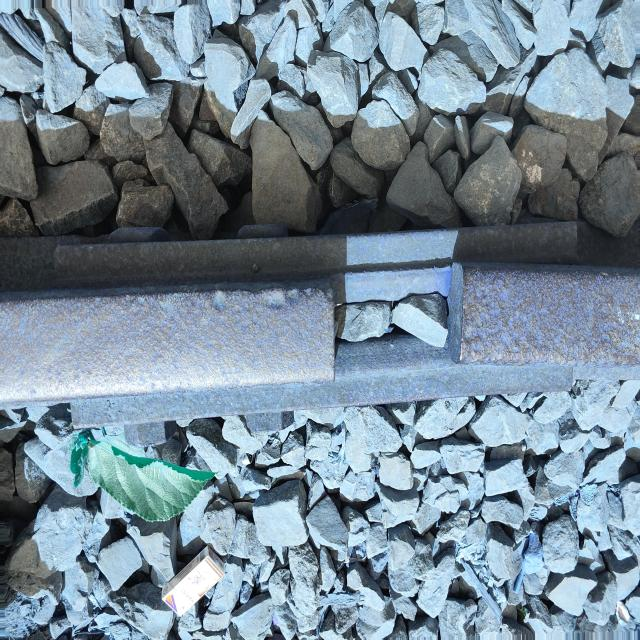crack: (306, 233, 500, 394)
